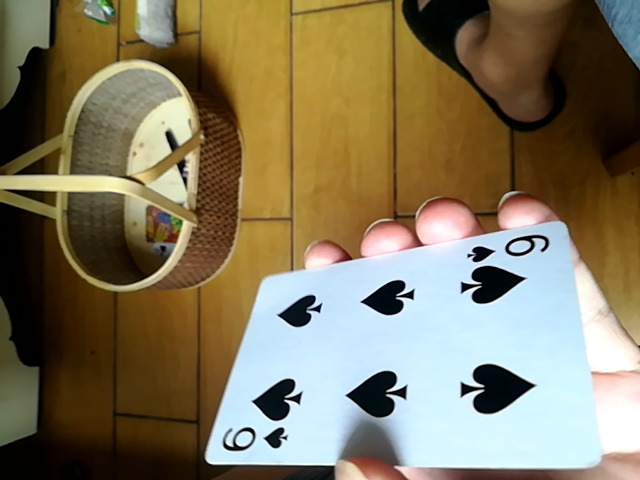ht 6: (209, 205, 606, 468)
